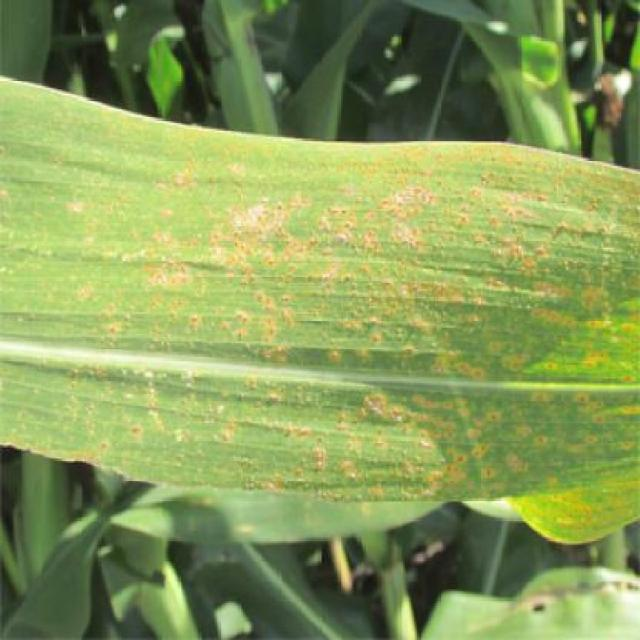Corn_Rust: (0, 72, 640, 542)
